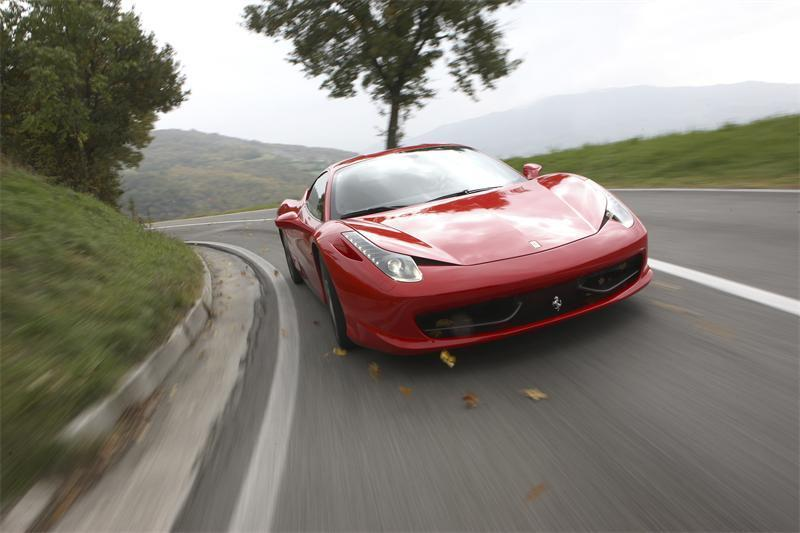car: (251, 137, 675, 387)
